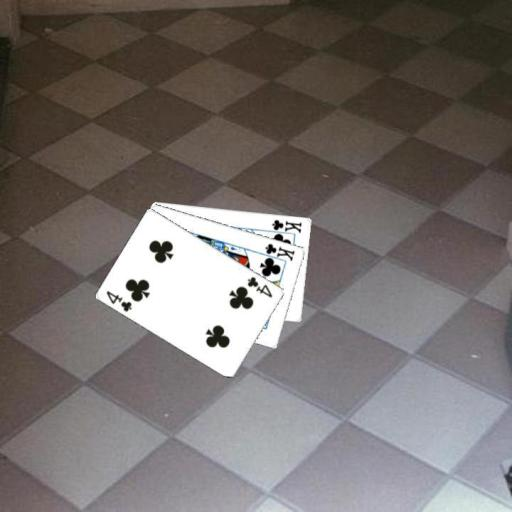4C: (103, 287, 134, 313), (245, 273, 274, 299)
KC: (258, 240, 297, 264), (265, 216, 303, 237)
